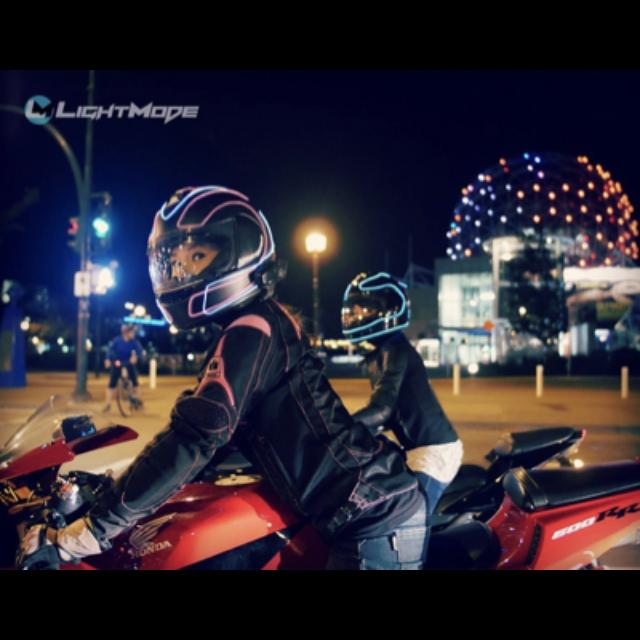With Helmet: (142, 182, 280, 328), (341, 268, 411, 340)
